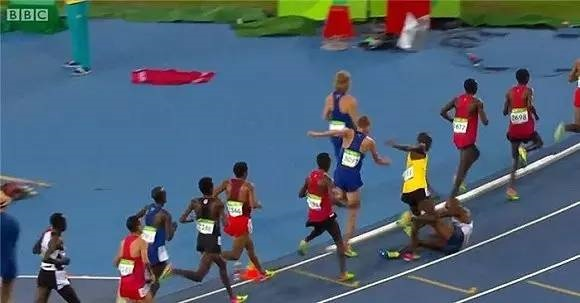fall: (383, 189, 481, 264)
